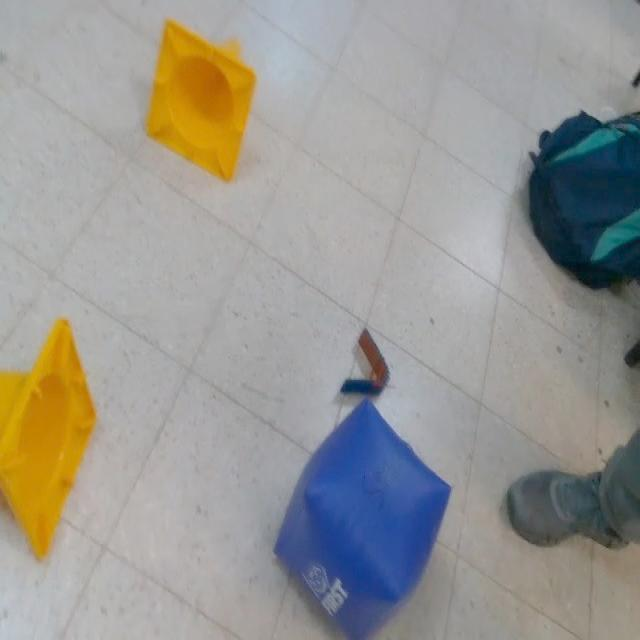cone: (0, 314, 100, 558), (148, 15, 258, 181)
cube: (272, 400, 453, 640)
